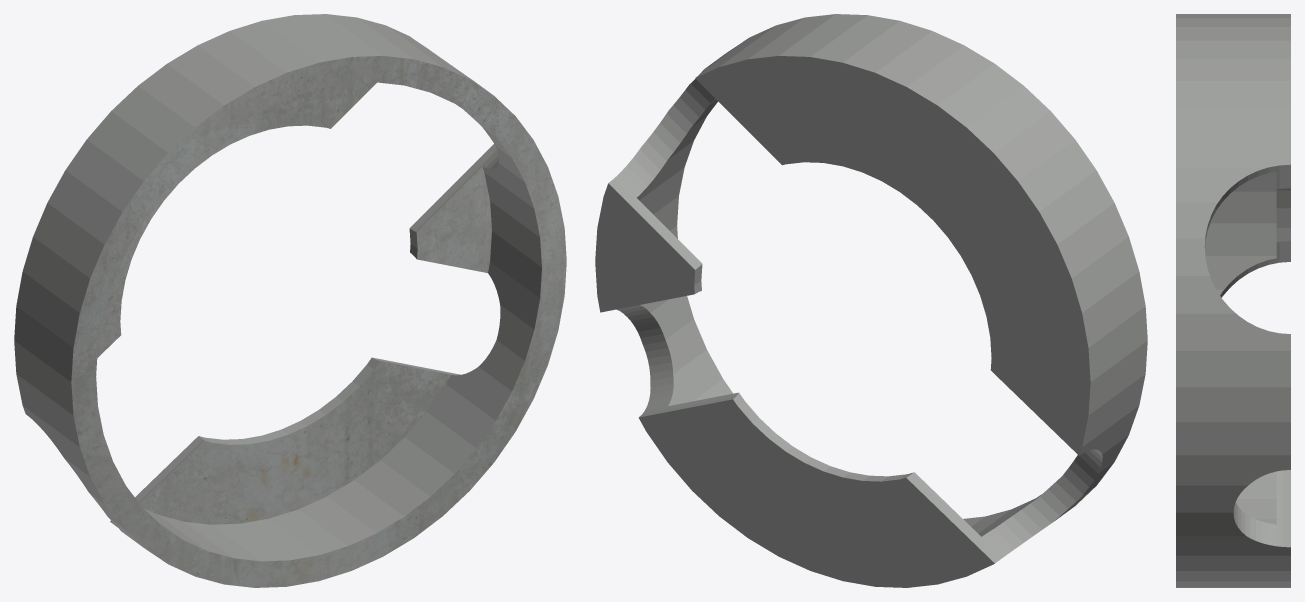
Rendered from pool_025.obj.
The picture shows the model from 3 angles, left to right: view 1: azimuth 30°, elevation 25°; view 2: azimuth 150°, elevation 25°; view 3: azimuth 270°, elevation 25°; orthographic projection.
Size of the model in its own units: 20 by 20 by 4.
